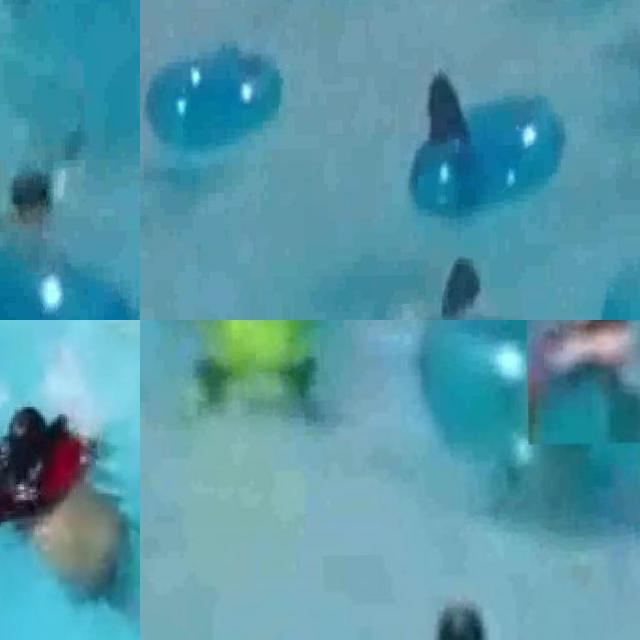drowning: (0, 383, 140, 618), (0, 126, 122, 248), (378, 232, 542, 320), (382, 594, 515, 640)
swimming: (384, 65, 552, 193), (524, 320, 640, 445)
